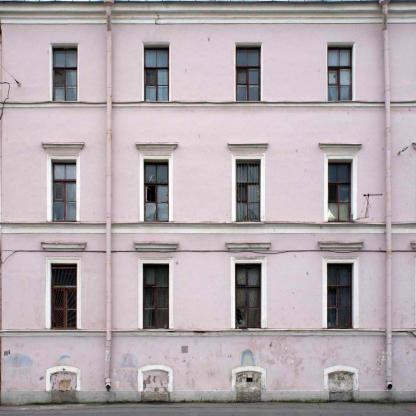Building Outline: (0, 2, 415, 402)
Cornice: (42, 142, 85, 154), (319, 143, 362, 154), (228, 143, 269, 154), (136, 143, 178, 153), (317, 242, 363, 251), (134, 242, 179, 251), (41, 243, 87, 251), (225, 243, 271, 250)
Facade: (0, 2, 415, 402)
Floor: (1, 130, 416, 232)
Floor Slab: (1, 122, 416, 131), (1, 232, 416, 240)
Ground Floor: (1, 240, 416, 403)
Top Floor: (1, 3, 416, 123)
Window: (327, 262, 354, 328), (51, 263, 77, 329), (143, 264, 169, 329), (235, 263, 261, 328), (328, 159, 353, 221), (52, 159, 77, 221), (236, 159, 261, 221), (144, 160, 169, 221), (327, 46, 353, 101), (143, 46, 169, 101), (52, 46, 77, 101), (236, 46, 261, 101)
